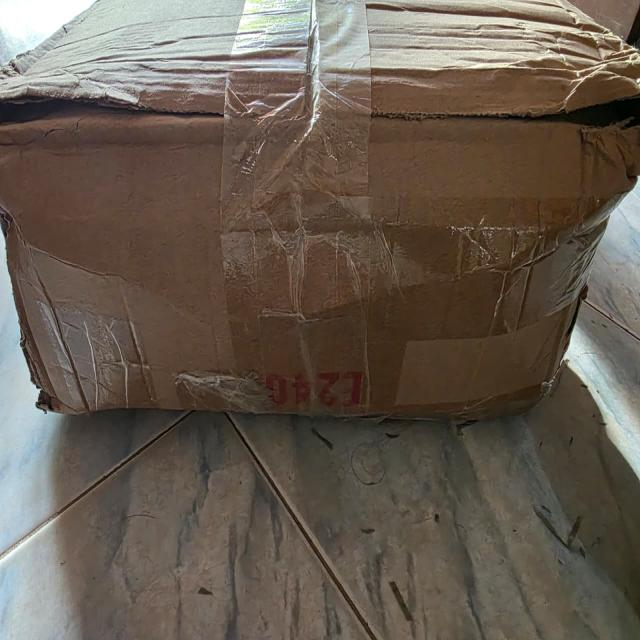carton_box: (0, 1, 640, 440)
package_damage: (0, 63, 640, 180), (0, 183, 74, 427), (565, 195, 598, 382)
